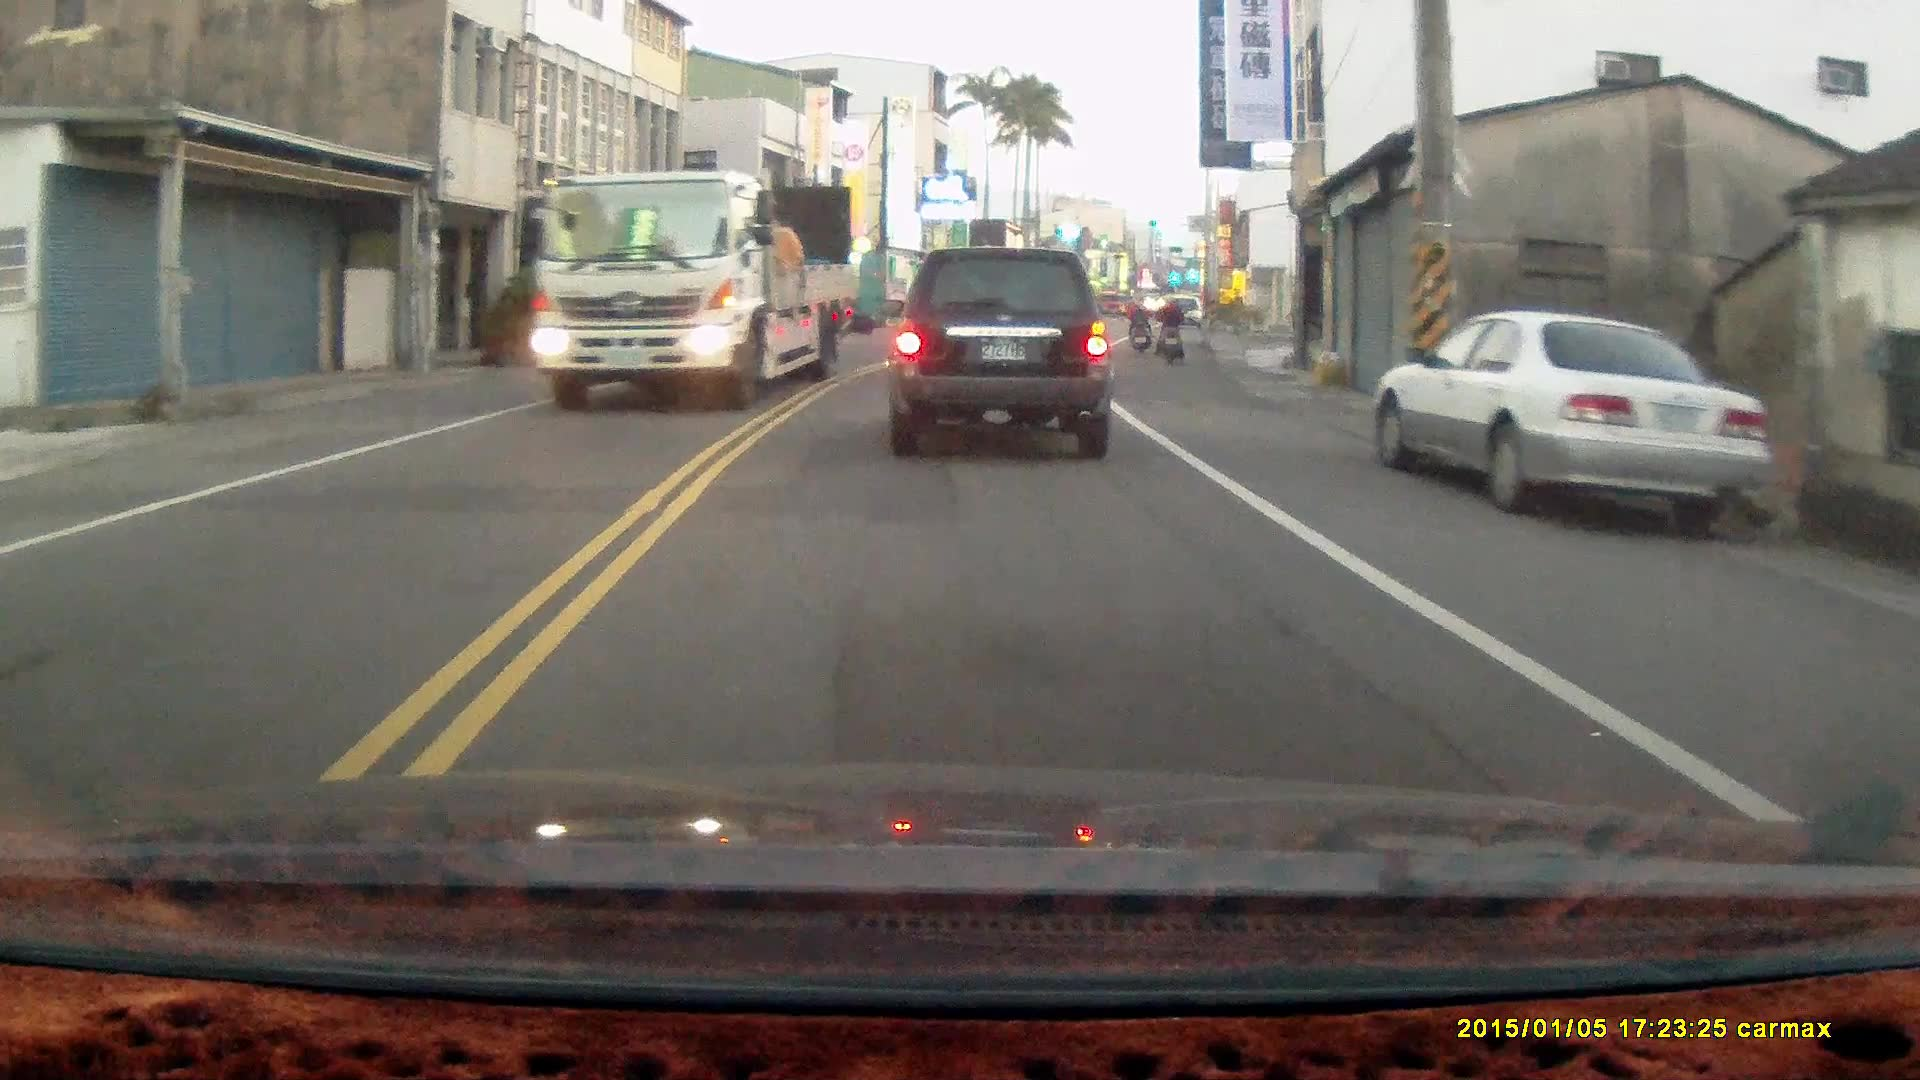rider: (1154, 292, 1185, 370), (1124, 294, 1149, 356)
vehicle: (1371, 309, 1766, 533), (533, 170, 857, 402), (892, 245, 1119, 456)
